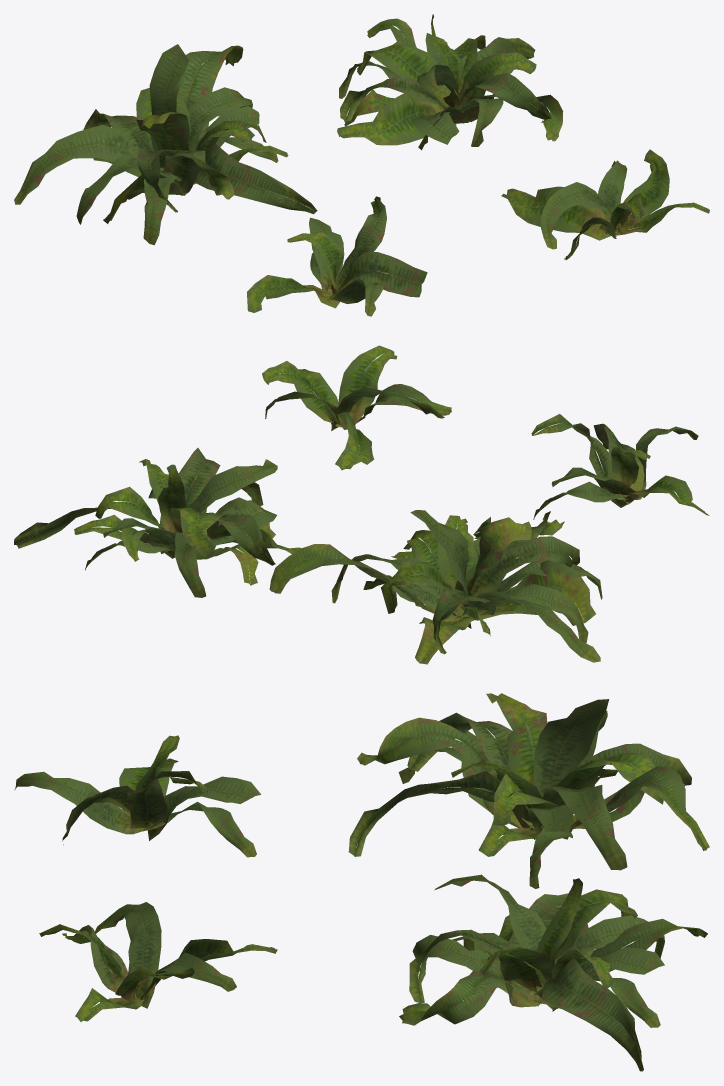
File: fern.glb
The picture shows the model from 3 angles, top to bottom: view 1: azimuth 30°, elevation 25°; view 2: azimuth 150°, elevation 25°; view 3: azimuth 270°, elevation 25°; orthographic projection. The views are drawn at different scales.
Visible parts, largest first — view 1: fern_02_b, fern_02_c, fern_02_d, fern_02_a; view 2: fern_02_b, fern_02_c, fern_02_d, fern_02_a; view 3: fern_02_b, fern_02_c, fern_02_a, fern_02_d.
Boxes of the visible parts, box(x1,y1,x2,y2) form: fern_02_b: box(14, 44, 317, 245); fern_02_c: box(337, 14, 563, 150); fern_02_d: box(501, 149, 709, 259); fern_02_a: box(247, 196, 427, 316); fern_02_b: box(269, 510, 602, 664); fern_02_c: box(14, 448, 300, 597); fern_02_d: box(262, 345, 451, 470); fern_02_a: box(531, 414, 709, 519); fern_02_b: box(348, 693, 709, 888); fern_02_c: box(399, 874, 707, 1071); fern_02_a: box(14, 735, 260, 857); fern_02_d: box(39, 902, 277, 1021).
Bounding box in the file's own units: 1.97 × 0.4261 × 1.72.
1 material, 1 textured.
